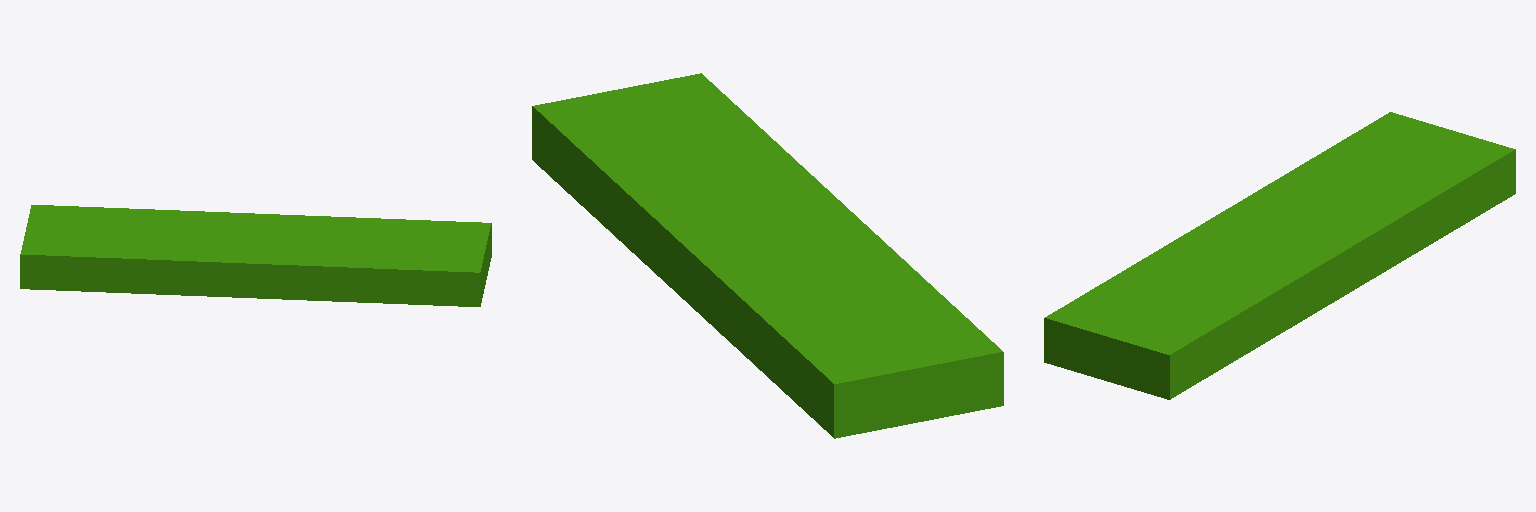
robot.urdf — Interference:
<?xml version="1.0"?>
<robot name="Interference">
  <link name="baseLink">
    <inertial>
      <origin xyz="0.0 0.0 0.0" rpy="0.0 0.0 0.0"/>
      <inertia ixx="0.0" ixy="0.0" ixz="0.0" iyy="0.0" iyz="0.0" izz="0.0"/>
      <mass value="0"/>
    </inertial>
    <visual>
      <origin xyz="0.0 0.0 0.0" rpy="0.0 0.0 0.9533943145621491"/>
      <geometry>
        <box size="0.03103005789639992 0.12093673444408819 0.01"/>
      </geometry>
      <material name="color">
        <color rgba="0.32632558834622616 0.6553736223380825 0.10609538582633171 1.0"/>
      </material>
    </visual>
  </link>
</robot>

--- What the picture shows (computed from the rendered views, not written in the file) ---
Views: 3 orthographic renders of the robot side by side, from view 1: azimuth 30°, elevation 25°; view 2: azimuth 150°, elevation 25°; view 3: azimuth 270°, elevation 25°.
Robot: Interference — 1 links, 0 joints (none); root link baseLink; default pose: every joint at zero.
Links seen in each view (by area): view 1: baseLink; view 2: baseLink; view 3: baseLink.
Link boxes in pixels (x1,y1,x2,y2): baseLink: [20, 205, 491, 306]; baseLink: [532, 73, 1003, 438]; baseLink: [1044, 112, 1515, 399].
Size in the robot's own frame: 0.1166 by 0.0953 by 0.01 metres.
Geometry: primitives only (box / cylinder / sphere), no mesh files.